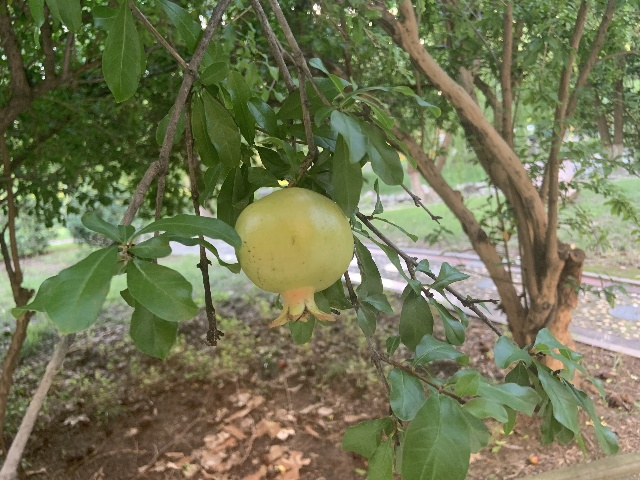mid-growth: (233, 186, 353, 328)
